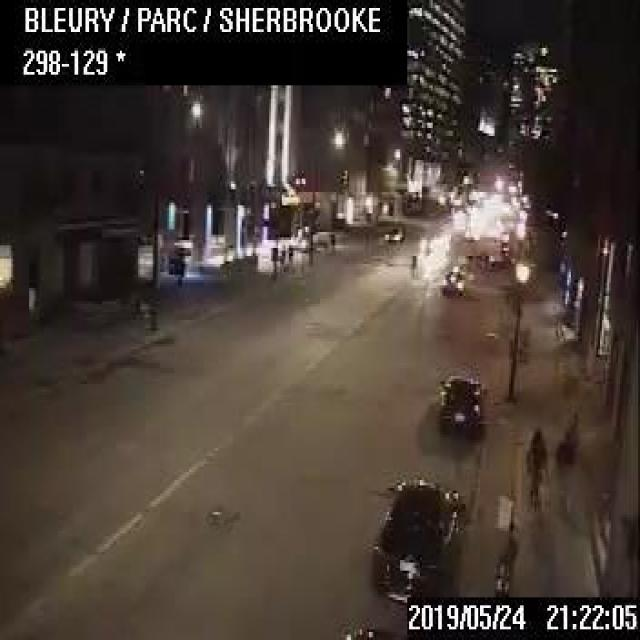pedestrian: (524, 426, 547, 509), (493, 518, 516, 592), (278, 242, 284, 268), (286, 242, 292, 266), (329, 230, 334, 251)
vehicle: (371, 472, 465, 603), (435, 370, 481, 431), (332, 616, 374, 637), (440, 263, 464, 295), (382, 224, 403, 240)
